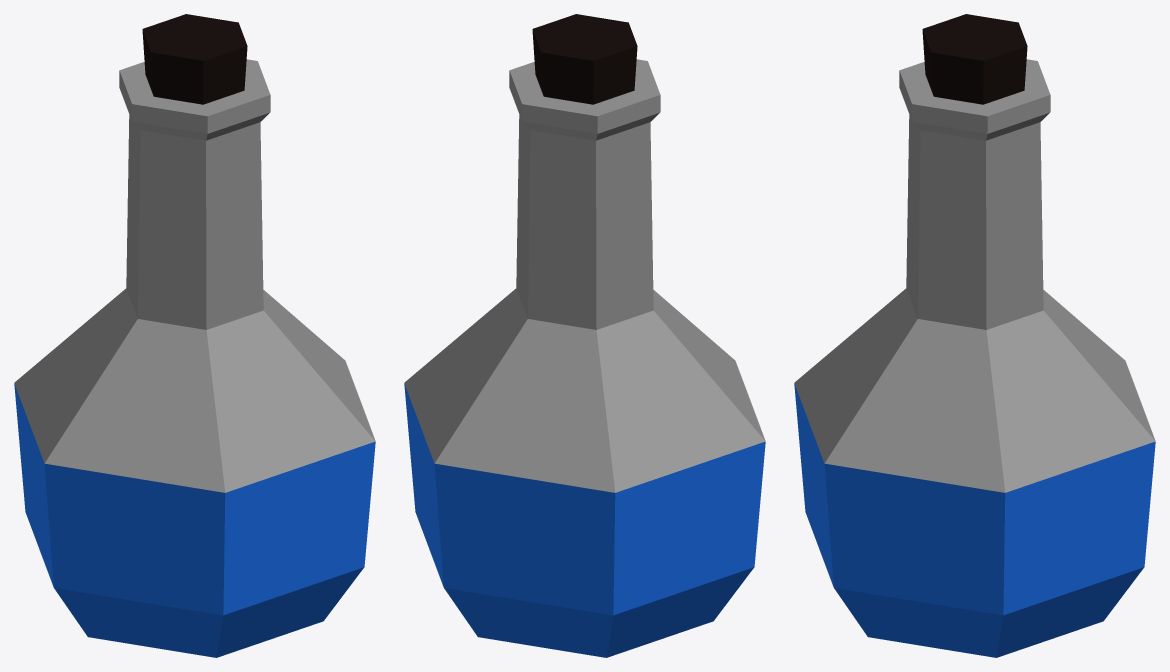
Rendered from m_potion.FBX.
The picture shows the model from 3 angles, left to right: view 1: azimuth 30°, elevation 25°; view 2: azimuth 150°, elevation 25°; view 3: azimuth 270°, elevation 25°; orthographic projection.
Parts seen in each view (by area): view 1: Potion; view 2: Potion; view 3: Potion.
Boxes of the visible parts, x1,y1,x2,y2 form: Potion: (14,14,375,657); Potion: (404,14,765,657); Potion: (794,14,1155,657).
Bounding box in the file's own units: 17.56 × 16.6 × 28.53.
